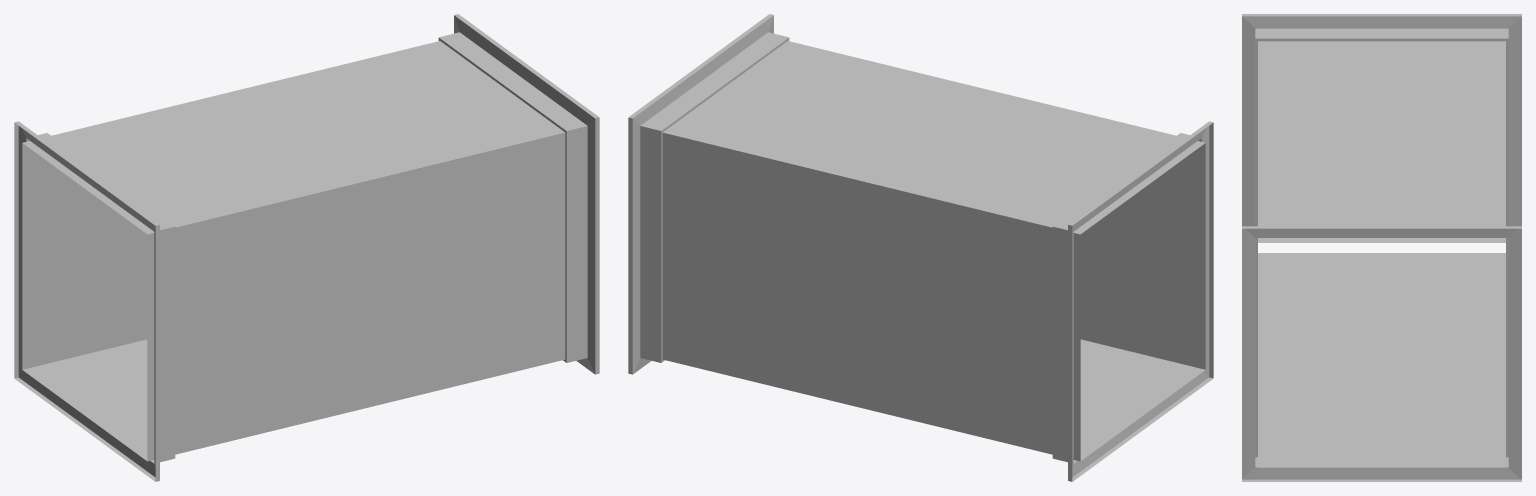
File: SM_Airing_100.FBX
3 views of the same model, side by side, from view 1: azimuth 30°, elevation 25°; view 2: azimuth 150°, elevation 25°; view 3: azimuth 270°, elevation 25° (orthographic).
Visible parts, largest first — view 1: SM_Airing_100; view 2: SM_Airing_100; view 3: SM_Airing_100.
Boxes of the visible parts, box(x1,y1,x2,y2) form: SM_Airing_100: box(14, 14, 599, 481); SM_Airing_100: box(628, 14, 1213, 481); SM_Airing_100: box(1242, 14, 1521, 481).
Size of the model in its own units: 102 by 56.42 by 56.42.
